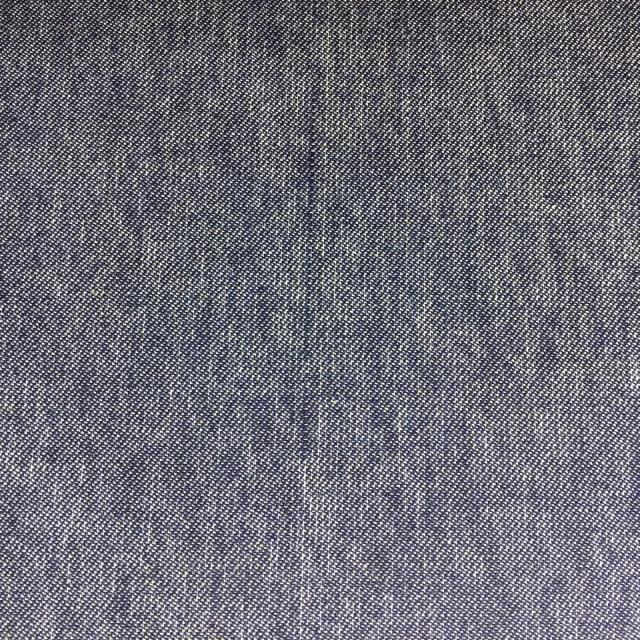Line: (293, 82, 320, 470)
